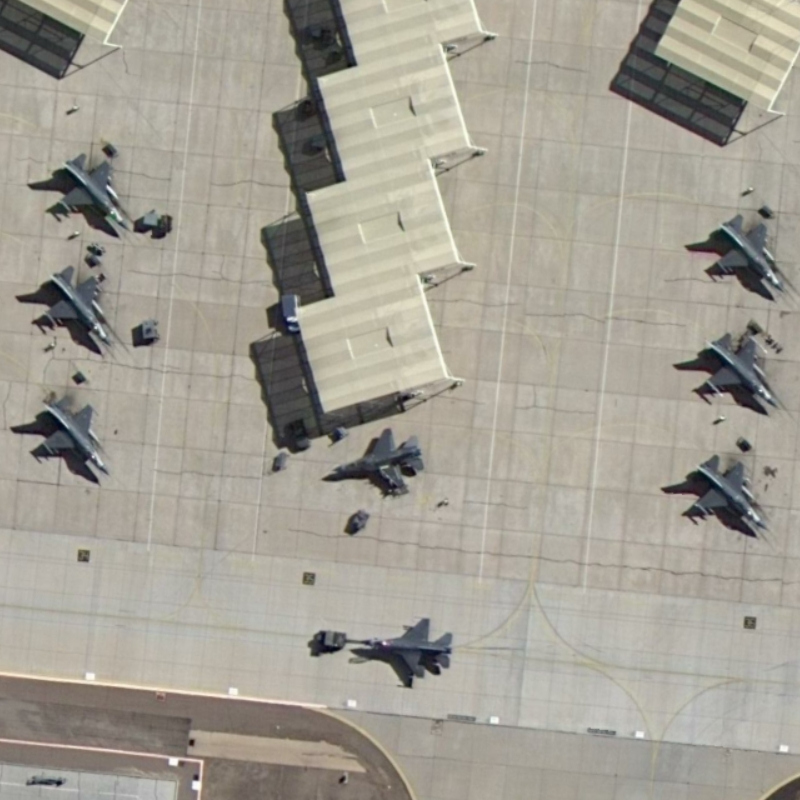A5: (340, 614, 455, 684), (682, 448, 771, 537), (48, 147, 136, 236), (691, 328, 781, 415), (703, 207, 790, 296), (30, 391, 115, 481), (328, 424, 430, 498), (38, 259, 117, 350)
